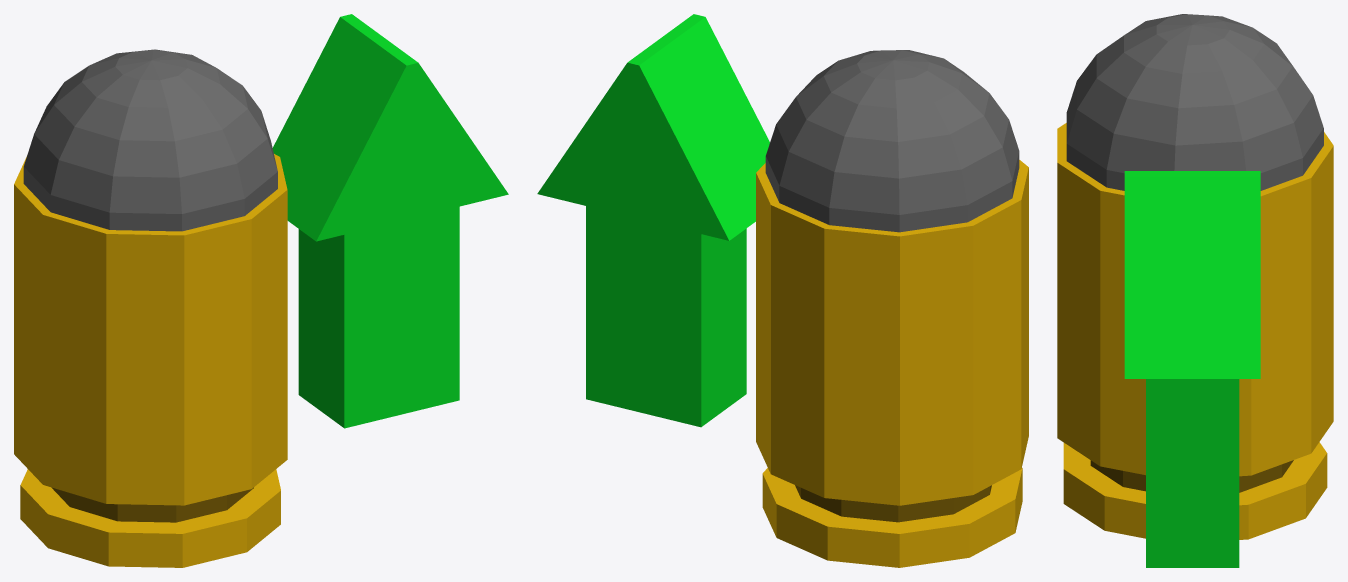
The model's file is bulletspeed.fbx.
3 renders of one model, left to right at view 1: azimuth 30°, elevation 25°; view 2: azimuth 150°, elevation 25°; view 3: azimuth 270°, elevation 25°, orthographic. The views are drawn at different scales.
Visible parts, largest first — view 1: Cylinder, Cube.001, Sphere; view 2: Cylinder, Cube.001, Sphere; view 3: Cylinder, Cube.001, Sphere.
Part boxes in pixels (bbox=[...]): Cylinder: bbox=[14, 154, 287, 567]; Cube.001: bbox=[272, 14, 508, 428]; Sphere: bbox=[23, 49, 277, 231]; Cylinder: bbox=[756, 160, 1028, 567]; Cube.001: bbox=[537, 14, 769, 427]; Sphere: bbox=[765, 50, 1019, 232]; Cylinder: bbox=[1057, 123, 1333, 539]; Cube.001: bbox=[1124, 171, 1260, 567]; Sphere: bbox=[1066, 14, 1323, 190].
Size of the model in its own units: 326 by 319 by 173.
